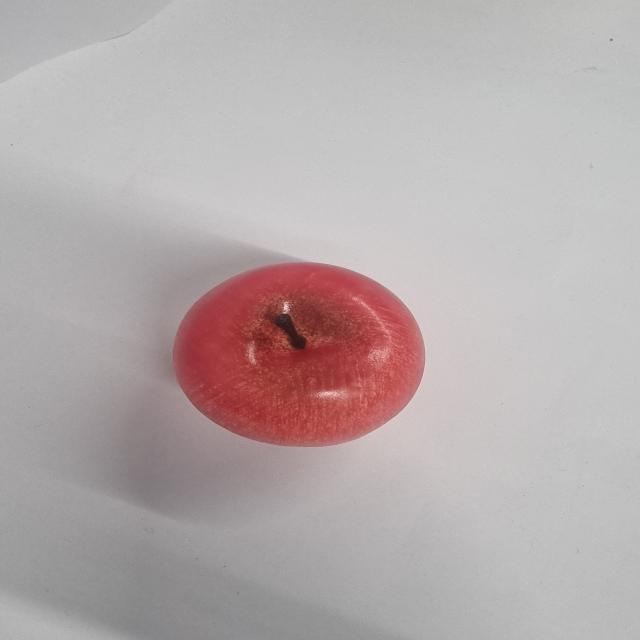apple: (173, 261, 427, 448)
